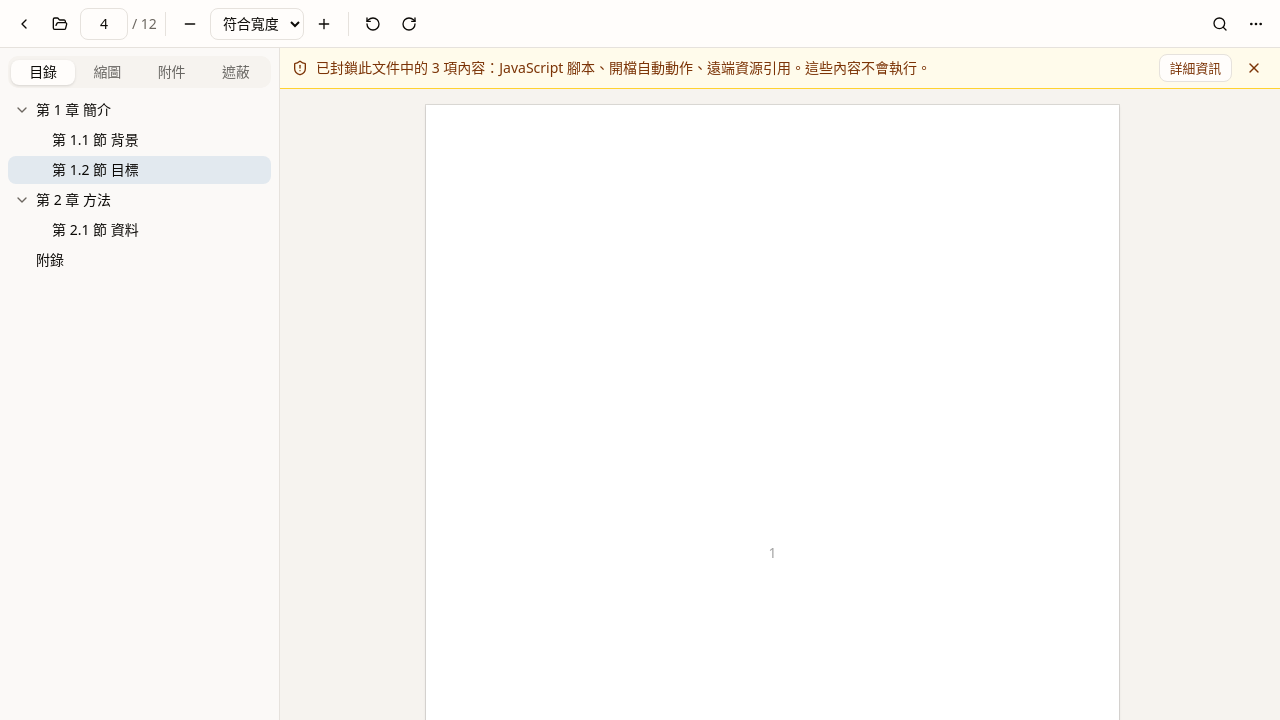
Scenario: settings (B2-12) › clears the list and the files not to record, and says so
Click the button named "更多" at [1256, 24], box 1240,8 -> 1272,40
(page scrolled)
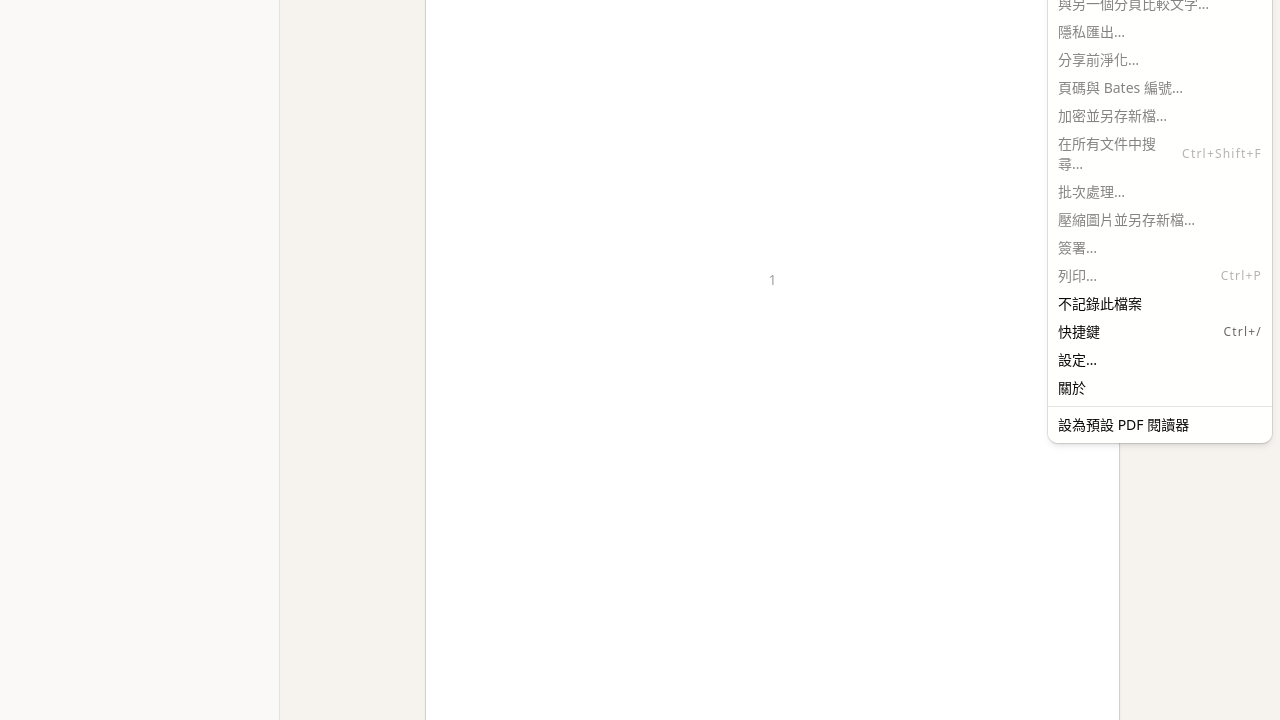
Click the menu item "設定…" at [1078, 360], box 1058,350 -> 1097,369
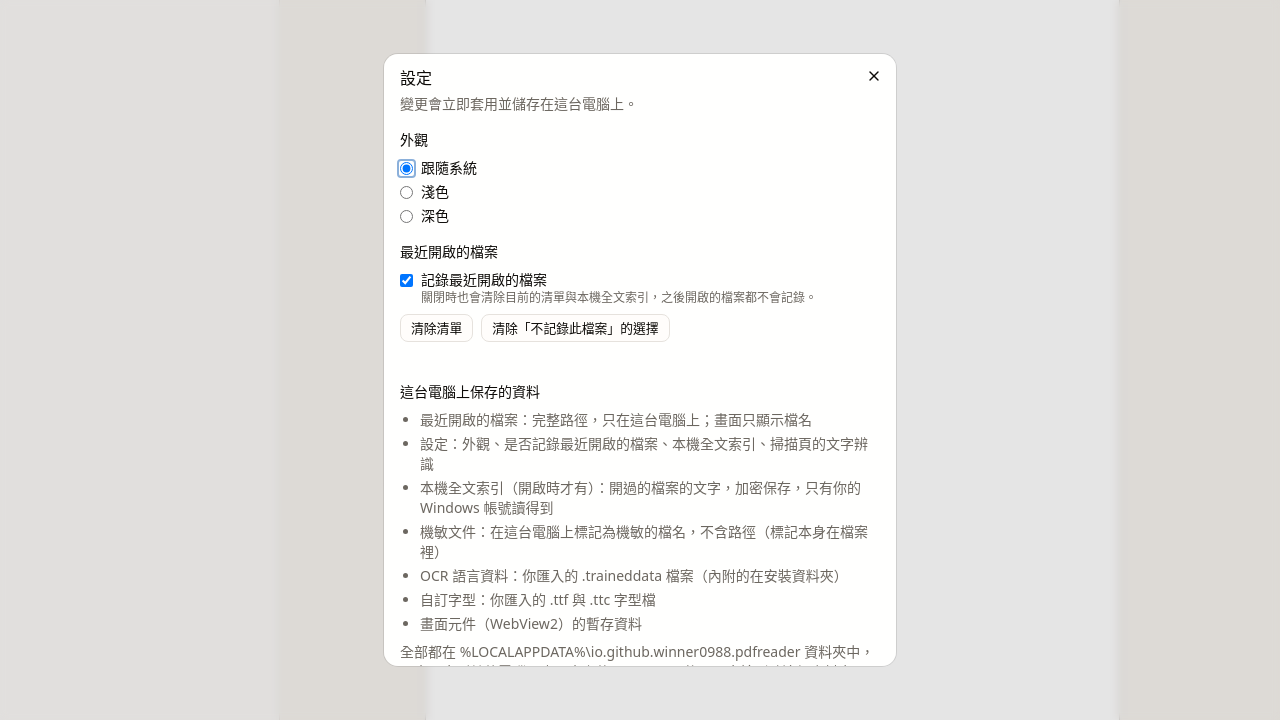
Click the button "清除清單" at [437, 328], box 400,314 -> 473,342
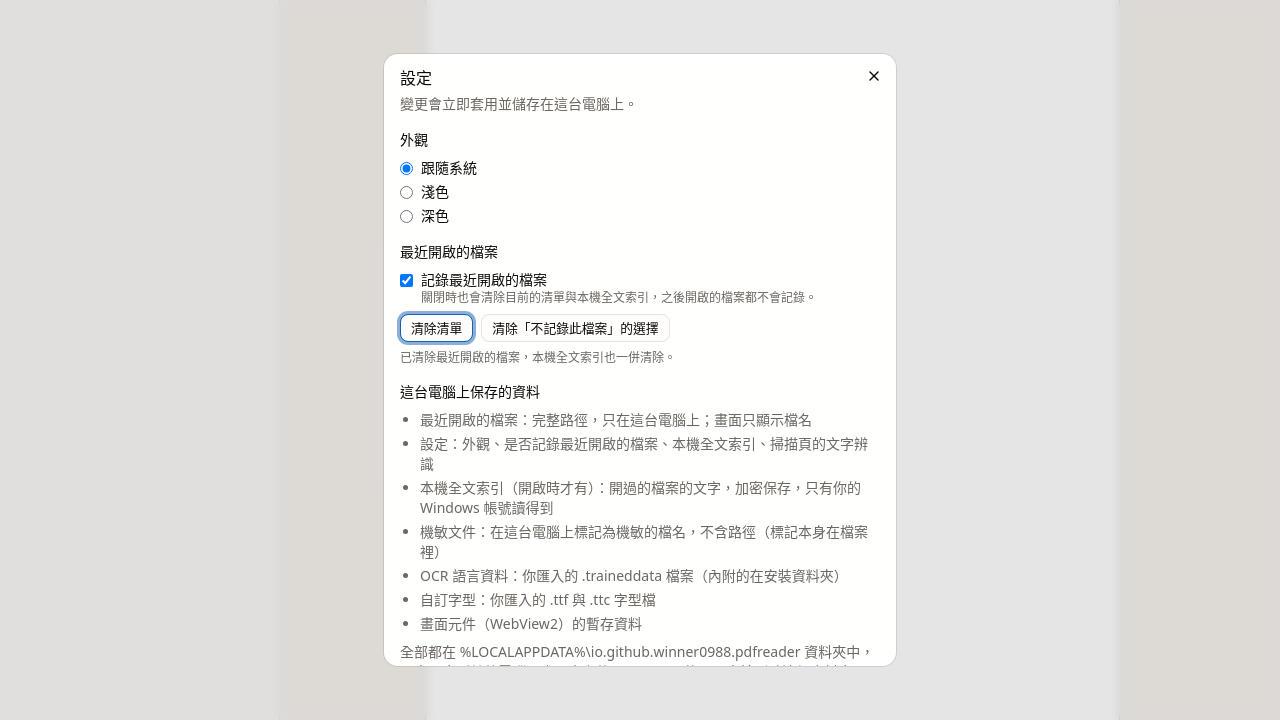
Expected: the message reads "已清除最近開啟的檔案，本機全文索引也一併清除。", 400,349 -> 676,366
Click the button "清除「不記錄此檔案」的選擇" at [575, 328], box 481,314 -> 670,342
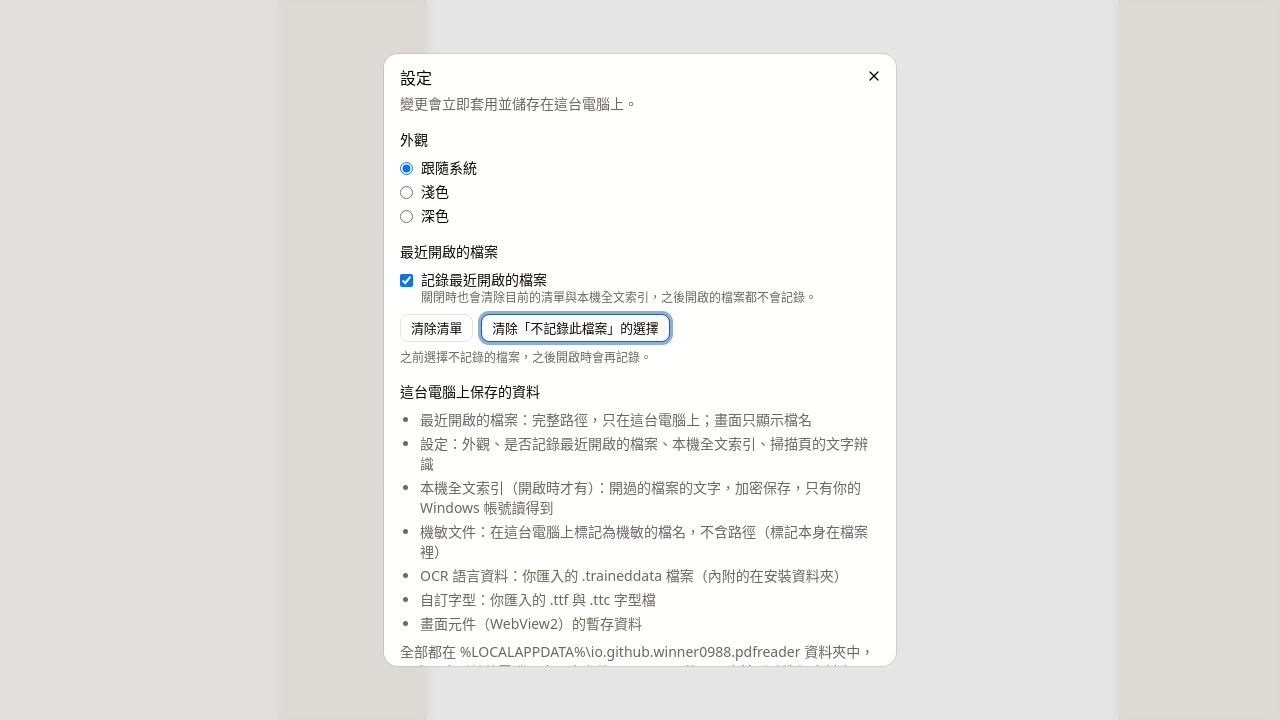
Expected: the message reads "之前選擇不記錄的檔案，之後開啟時會再記錄。", 400,349 -> 652,366
